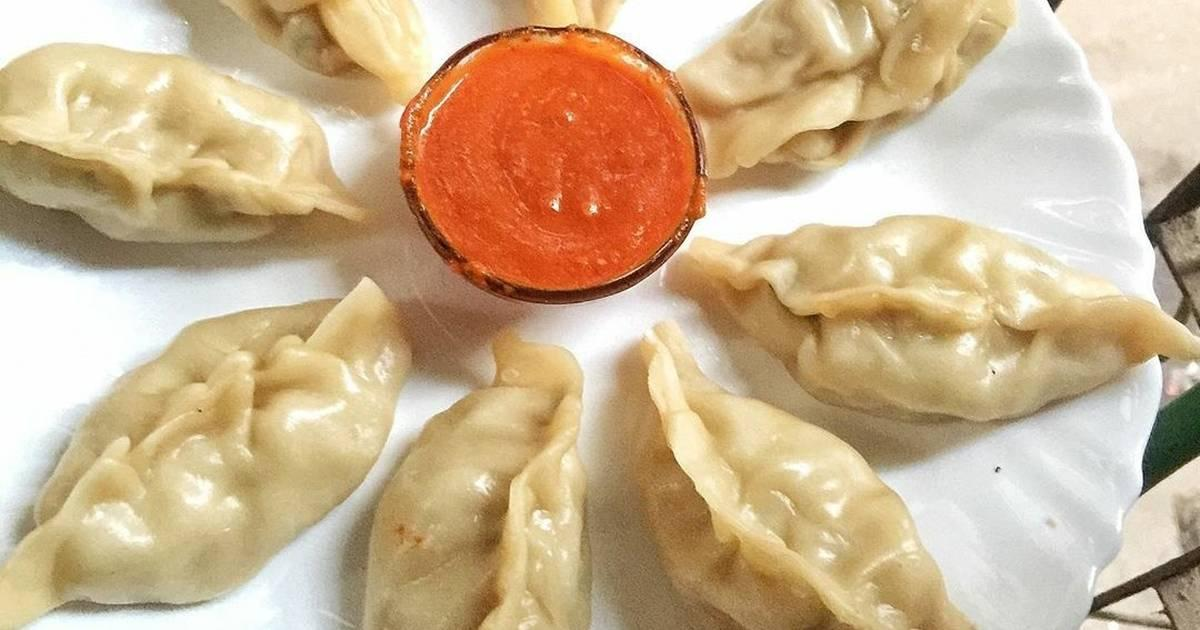momos: (0, 279, 410, 627), (689, 216, 1200, 421), (638, 323, 970, 628), (0, 45, 366, 243), (363, 330, 591, 629), (677, 0, 1015, 178)
